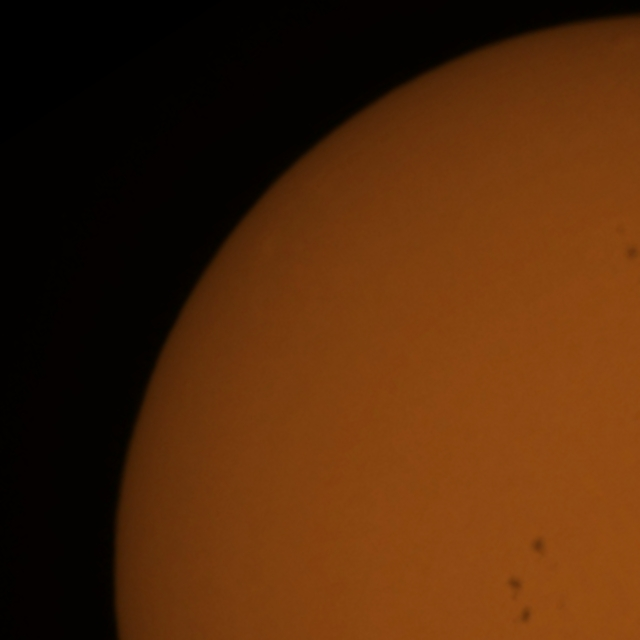sunspot: (504, 572, 532, 620), (528, 534, 547, 558), (517, 602, 534, 628), (624, 244, 640, 263)
